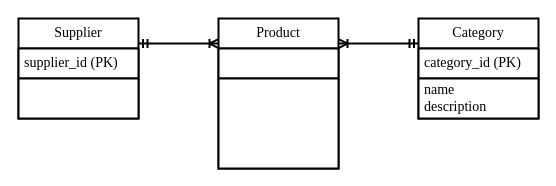
This 556x186 diagram has some shape labels left out. The shapes that lost their labels are listed below. From the top down, each one's centre as x and y in pixels, then its label:
At point (278, 63): "sku (PK)".
At point (78, 98): "company_name phone".
At point (278, 123): "name price stock supplier_id (FK) category_id (FK)".
